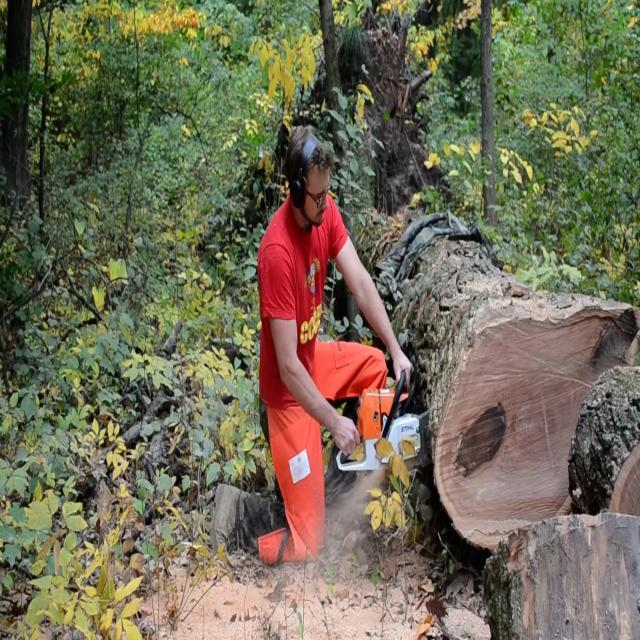Chainsaw: (324, 364, 454, 482)
